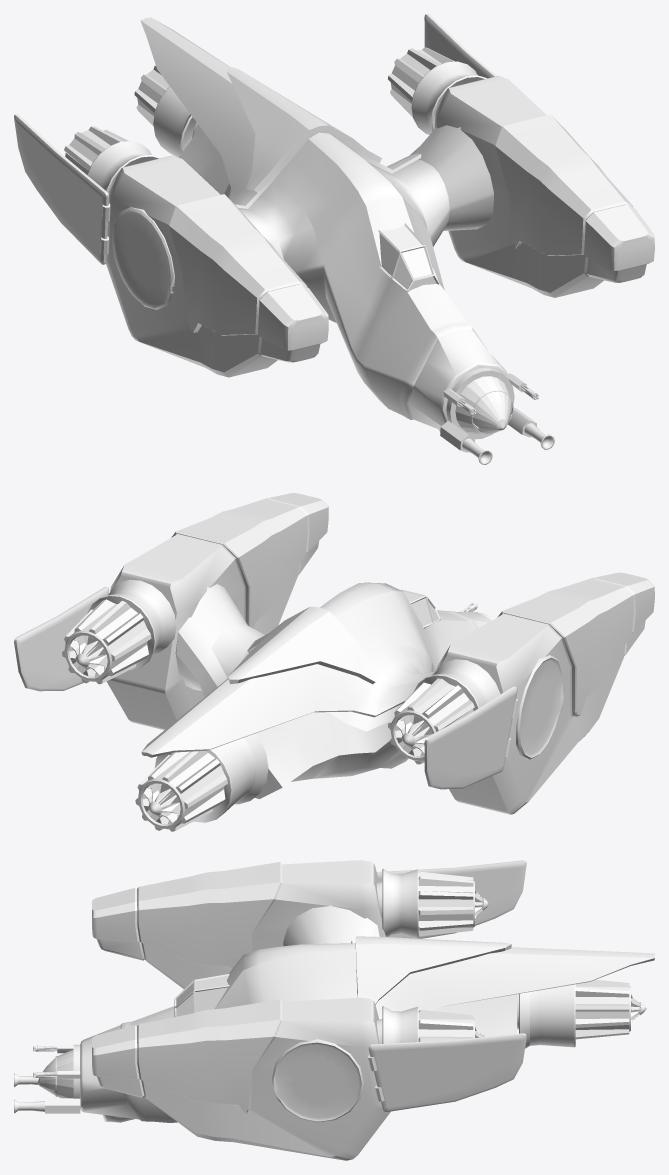
The model's file is interceptorX101.fbx.
3 renders of one model, top to bottom at view 1: azimuth 30°, elevation 25°; view 2: azimuth 150°, elevation 25°; view 3: azimuth 270°, elevation 25°, orthographic. The views are drawn at different scales.
Visible parts, largest first — view 1: gunholder2; view 2: gunholder2; view 3: gunholder2.
Boxes of the visible parts, x1,y1,x2,y2 form: gunholder2: (14, 14, 654, 464); gunholder2: (14, 493, 654, 831); gunholder2: (14, 860, 654, 1160).
Bounding box in the file's own units: 1292 × 632 × 1998.
1 material, 1 textured.
